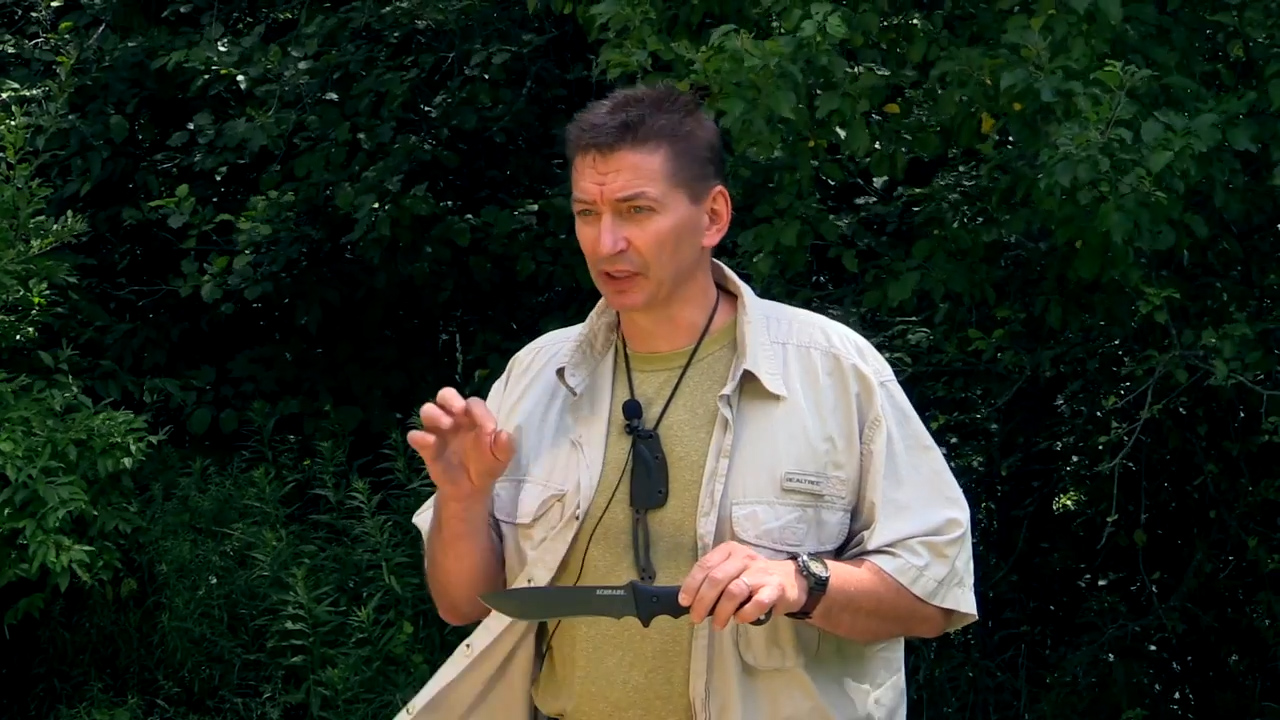knife: (472, 533, 778, 628)
